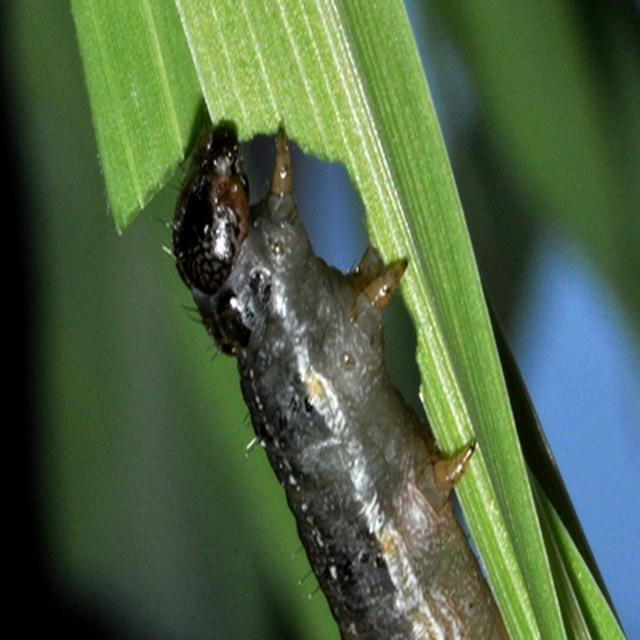gusano_cogollero: (157, 116, 505, 640)
